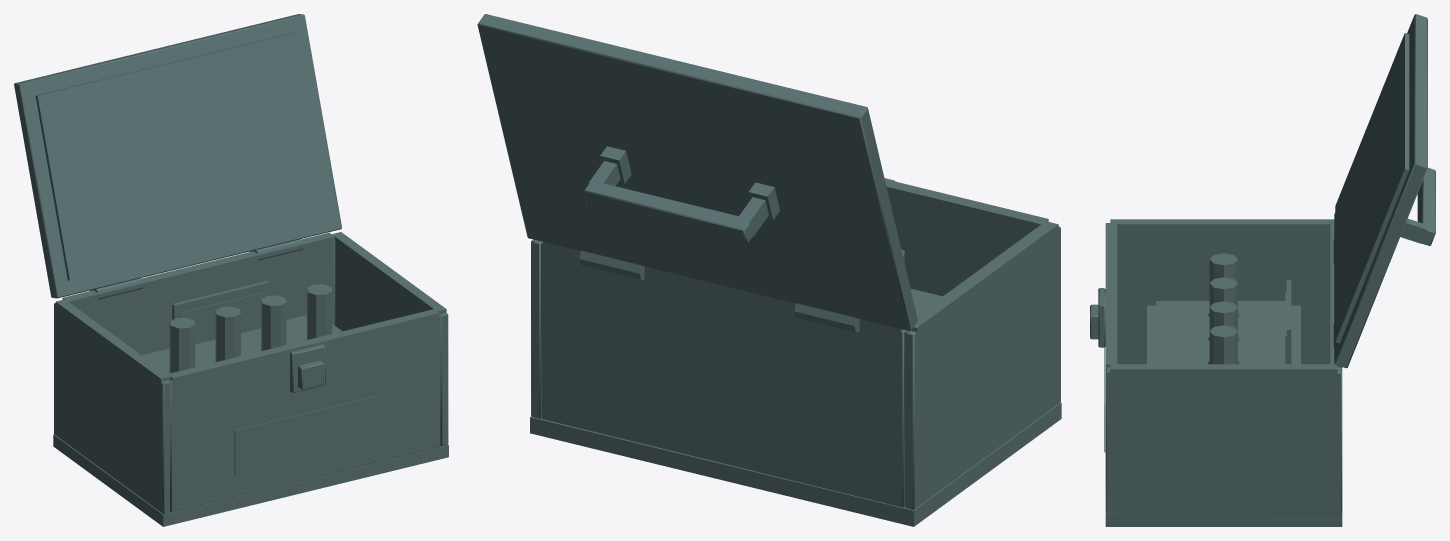
File: OBJ-027B_CajaMunicionEscopeta.fbx
3 views of the same model, side by side, from view 1: azimuth 30°, elevation 25°; view 2: azimuth 150°, elevation 25°; view 3: azimuth 270°, elevation 25° (orthographic). The views are drawn at different scales.
Parts seen in each view (by area): view 1: GEO-027B-Case.002, GEO-027B-Contents.002; view 2: GEO-027B-Case.002; view 3: GEO-027B-Case.002, GEO-027B-Contents.002.
Boxes of the visible parts, box(x1,y1,x2,y2) form: GEO-027B-Case.002: box(14, 14, 448, 526); GEO-027B-Contents.002: box(142, 281, 341, 373); GEO-027B-Case.002: box(477, 14, 1061, 526); GEO-027B-Case.002: box(1090, 14, 1435, 526); GEO-027B-Contents.002: box(1147, 253, 1300, 364).
Size of the model in its own units: 0.3 by 0.3387 by 0.2921.
